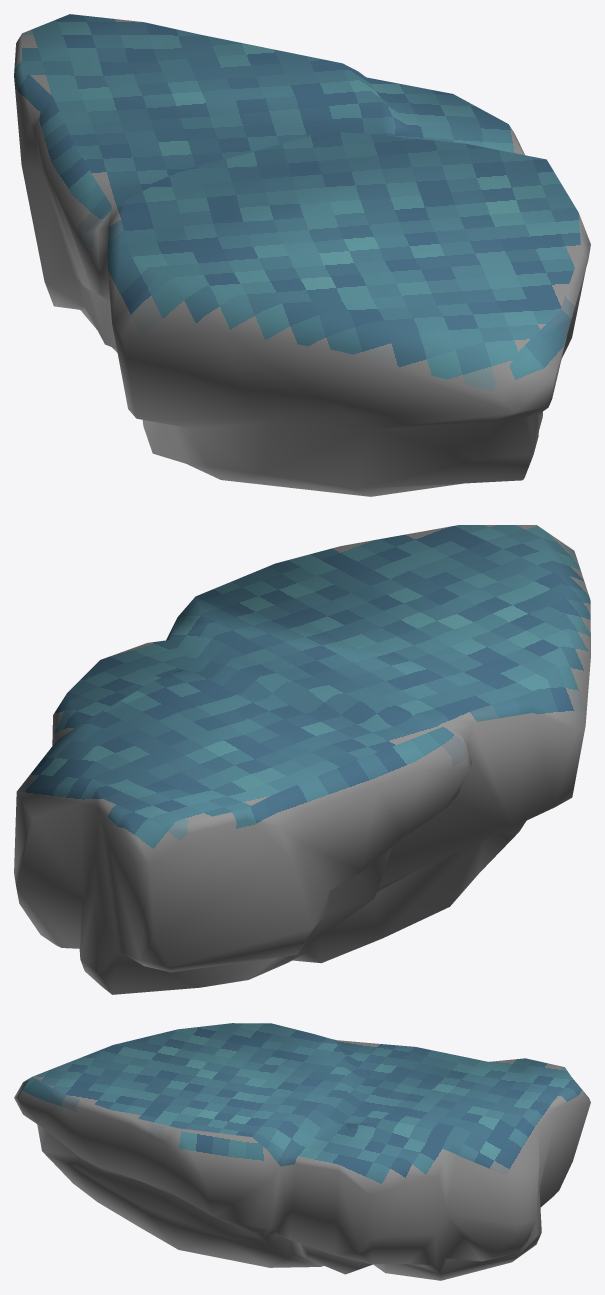
3 views of the same model, one above another, from view 1: azimuth 30°, elevation 25°; view 2: azimuth 150°, elevation 25°; view 3: azimuth 270°, elevation 25° (orthographic). The views are drawn at different scales.
Parts seen in each view (by area): view 1: submesh_0; view 2: submesh_0; view 3: submesh_0.
Boxes of the visible parts, bbox=[...] form: submesh_0: bbox=[14, 14, 590, 496]; submesh_0: bbox=[14, 525, 590, 994]; submesh_0: bbox=[14, 1023, 590, 1280].
Size of the model in its own units: 4.64 by 2.65 by 8.05.
Materials: 1 (1 with a texture image).
